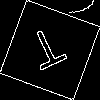T: (25, 25, 73, 80)
